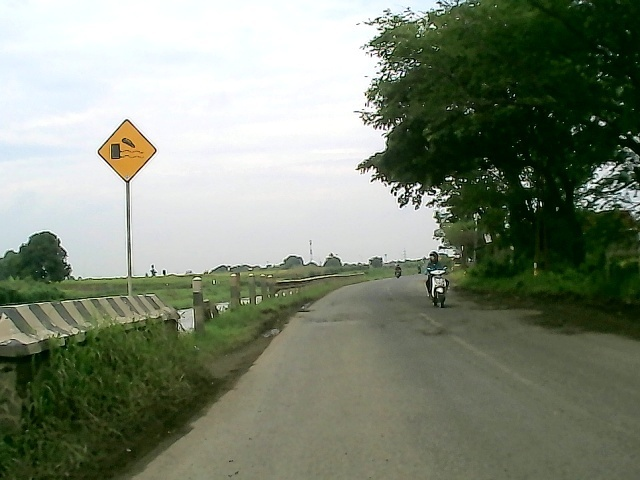Peringatan tepi air: (94, 116, 162, 184)
